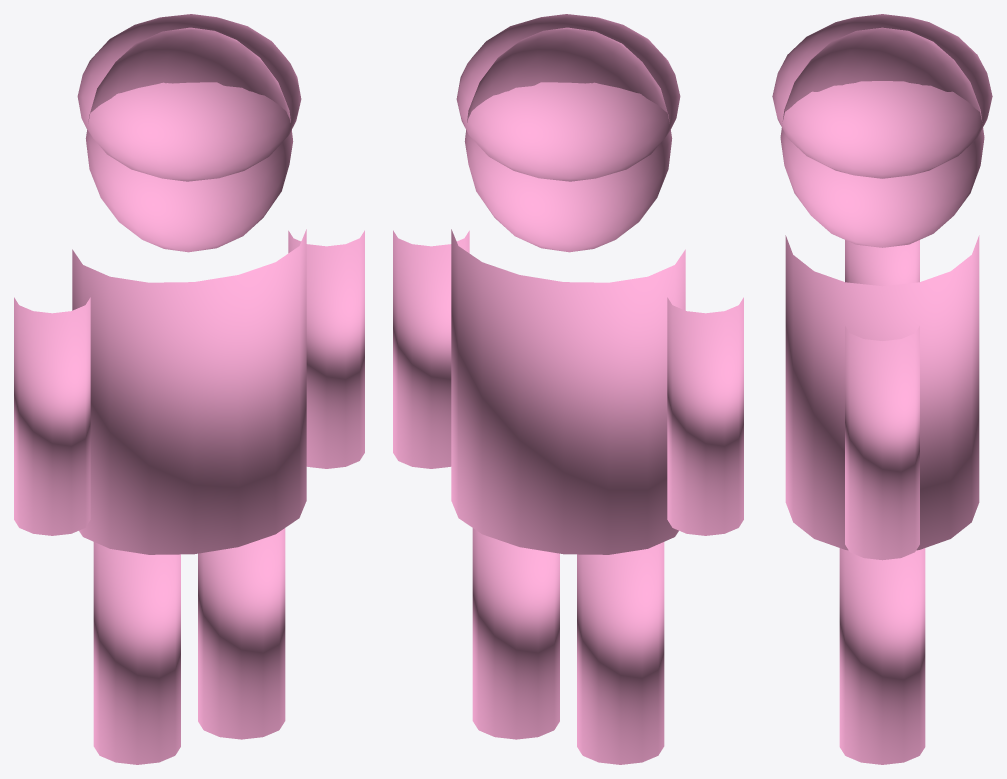
Rendered from frank.glb.
3 views of the same model, side by side, from view 1: azimuth 30°, elevation 25°; view 2: azimuth 150°, elevation 25°; view 3: azimuth 270°, elevation 25° (orthographic).
Visible parts, largest first — view 1: YoungAdultMaleMesh; view 2: YoungAdultMaleMesh; view 3: YoungAdultMaleMesh.
Boxes of the visible parts, x1,y1,x2,y2 form: YoungAdultMaleMesh: (14, 14, 364, 764); YoungAdultMaleMesh: (393, 14, 743, 764); YoungAdultMaleMesh: (772, 14, 992, 764).
Size of the model in its own units: 1.44 by 2.85 by 0.82.
